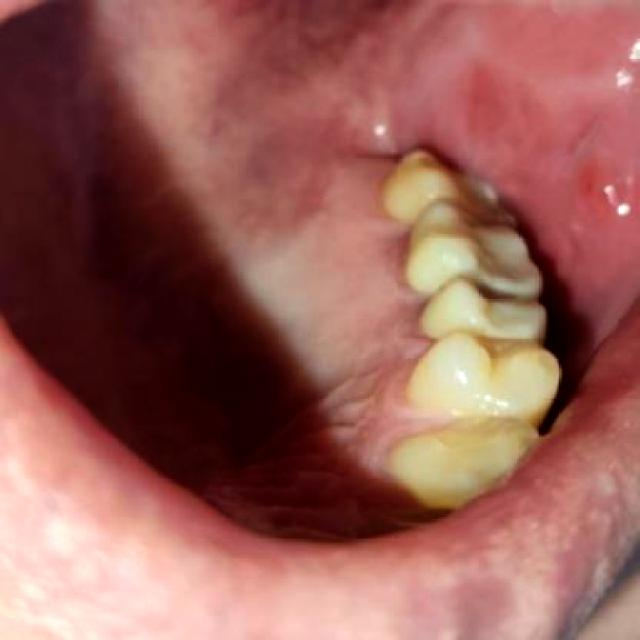Plaque: (376, 211, 450, 359)
